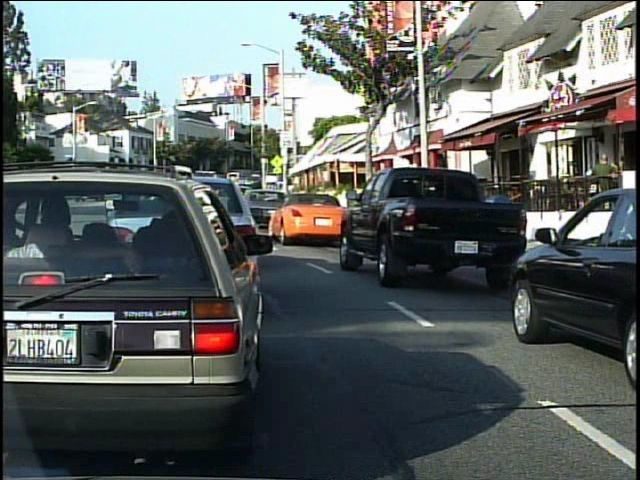person: (588, 148, 622, 227)
